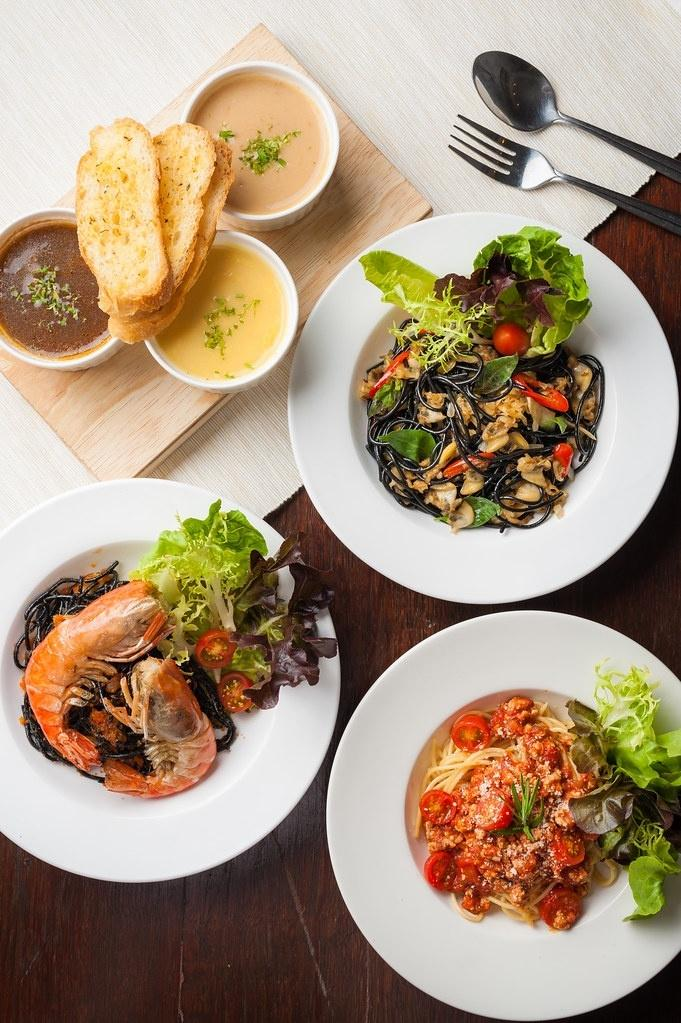Bread: (80, 136, 237, 323)
